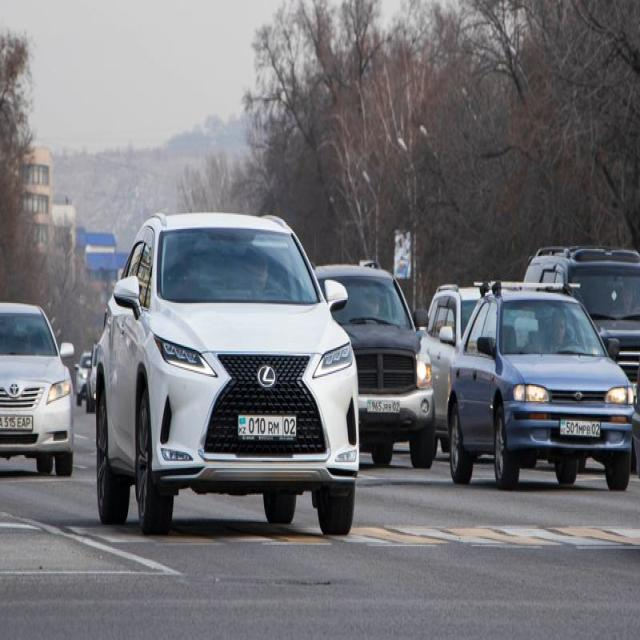car: (92, 211, 360, 536), (0, 300, 74, 476)
license: (237, 412, 297, 440)
